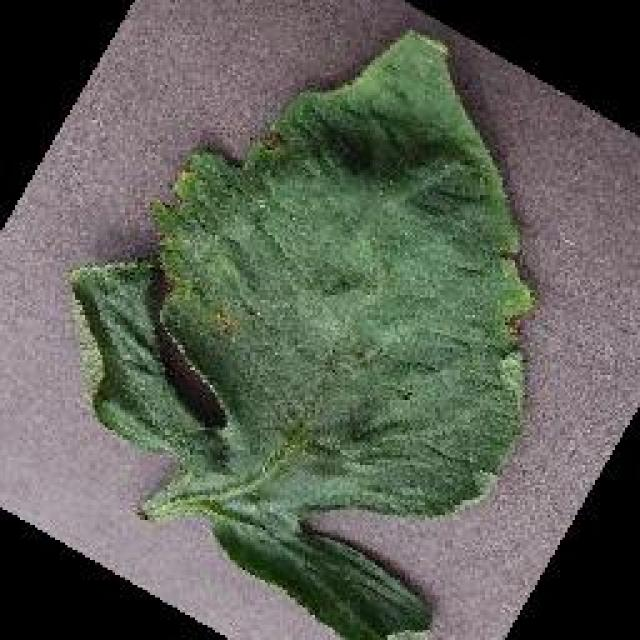Tomato___Target_Spot: (70, 32, 532, 638)
